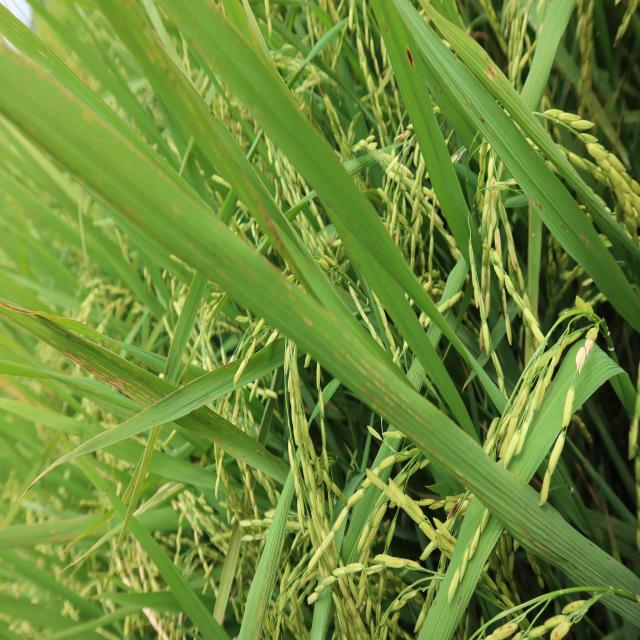Dom soc vi khuan: (339, 348, 437, 437), (78, 351, 157, 402), (63, 349, 139, 402), (359, 385, 392, 415), (48, 325, 85, 345), (132, 380, 162, 400), (134, 374, 161, 392), (127, 387, 152, 404), (103, 354, 124, 368), (81, 359, 89, 365)
